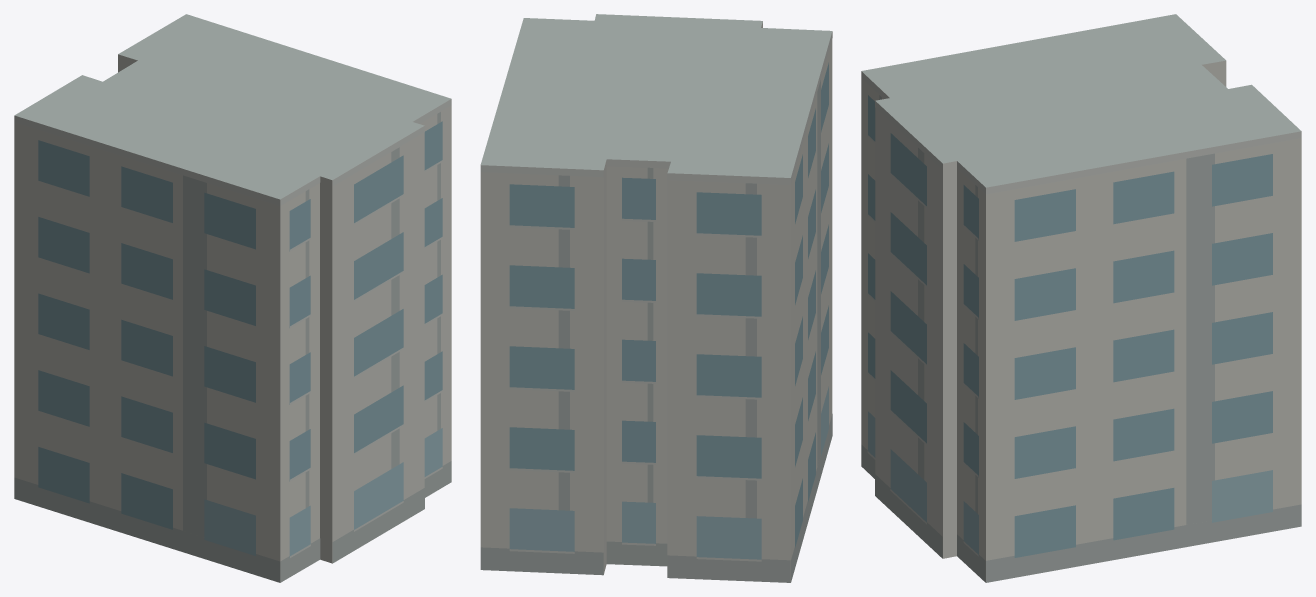
Rendered from survey-upis-32677908.glb.
The picture shows the model from 3 angles, left to right: view 1: azimuth 30°, elevation 25°; view 2: azimuth 150°, elevation 25°; view 3: azimuth 270°, elevation 25°; orthographic projection. The views are drawn at different scales.
Parts seen in each view (by area): view 1: survey-upis-32677908.tmp; view 2: survey-upis-32677908.tmp; view 3: survey-upis-32677908.tmp.
Boxes of the visible parts, x1,y1,x2,y2 form: survey-upis-32677908.tmp: (14, 14, 451, 582); survey-upis-32677908.tmp: (480, 14, 832, 582); survey-upis-32677908.tmp: (861, 14, 1301, 582).
Size of the model in its own units: 13.39 by 14.2 by 14.35.
